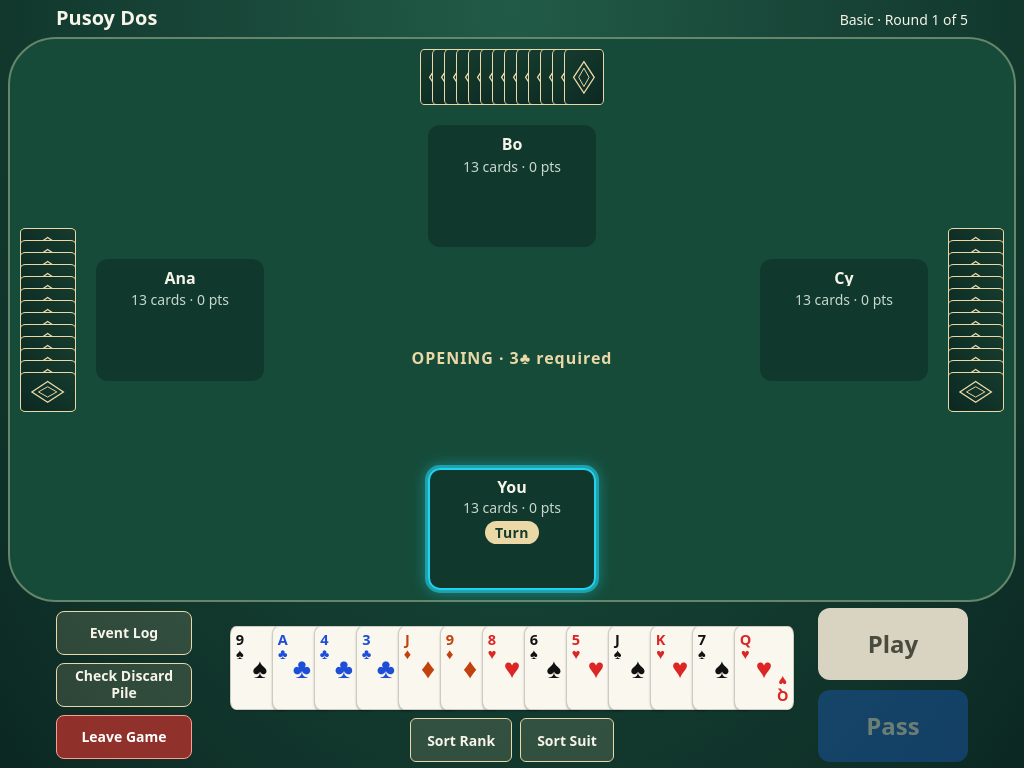
Discard Pile / Event Log overlays pause and resume real Turn advancement (M4-T10) › Event Log: pauses progression while open and resumes it from the same point once closed
# See the Discard Pile case above for why this is synchronous rather than awaiting any prior progress.
Click the button "Event Log".
click(124, 633)  # box [56,611,192,655]
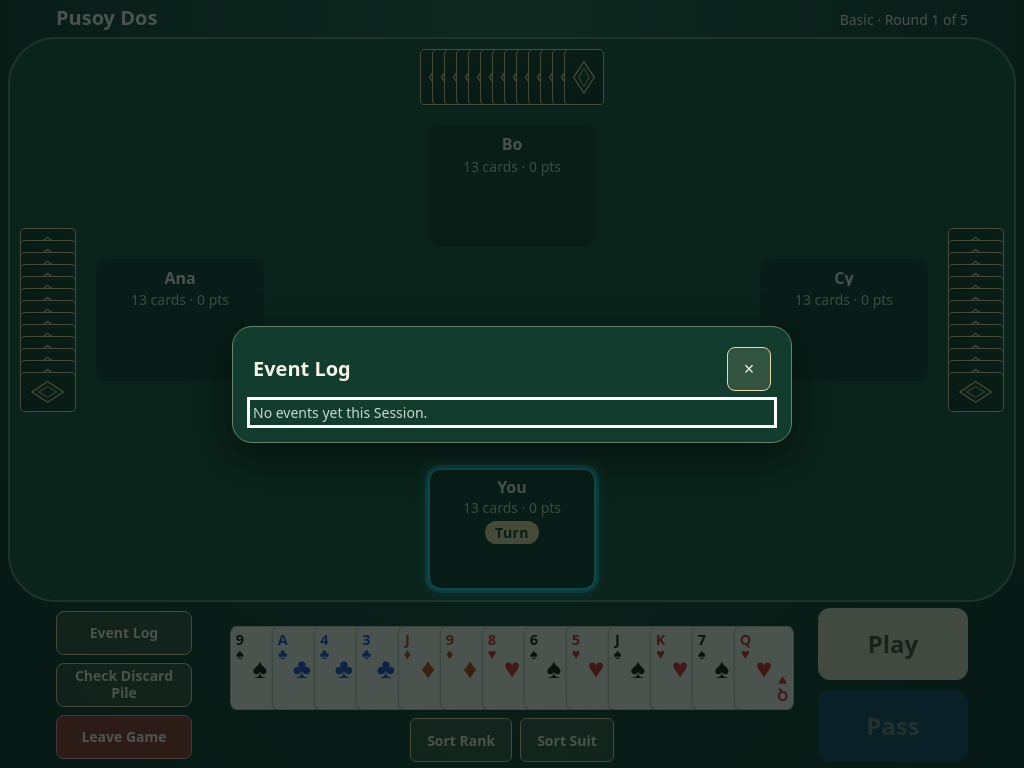
Click the button named "Close Event Log".
click(749, 368)  # box [727,346,771,390]
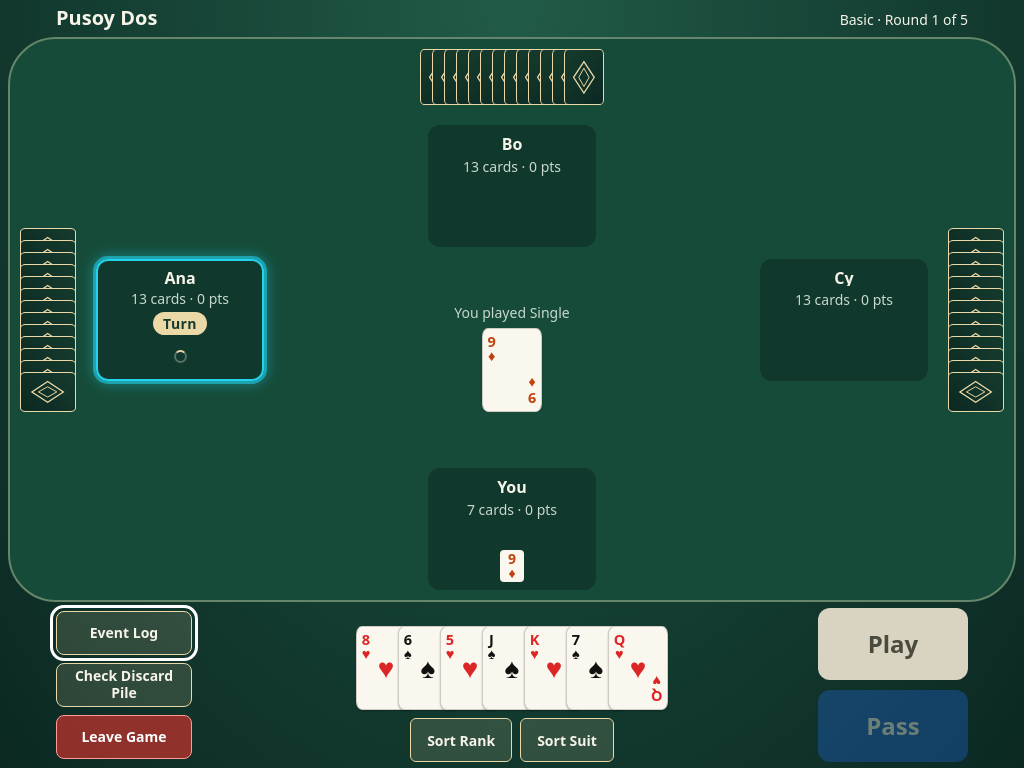
Result: the dialog is gone
